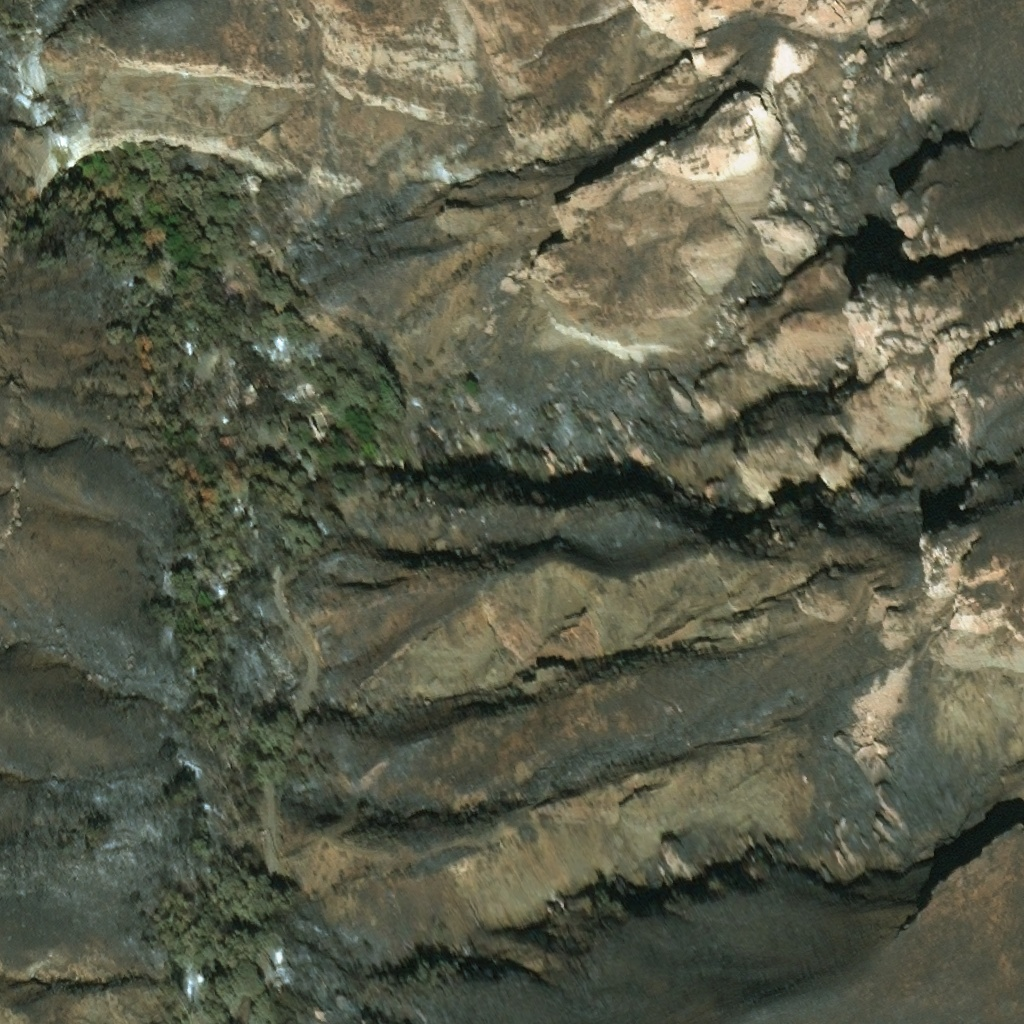3 destroyed: (296, 389, 325, 438), (240, 170, 258, 188)
